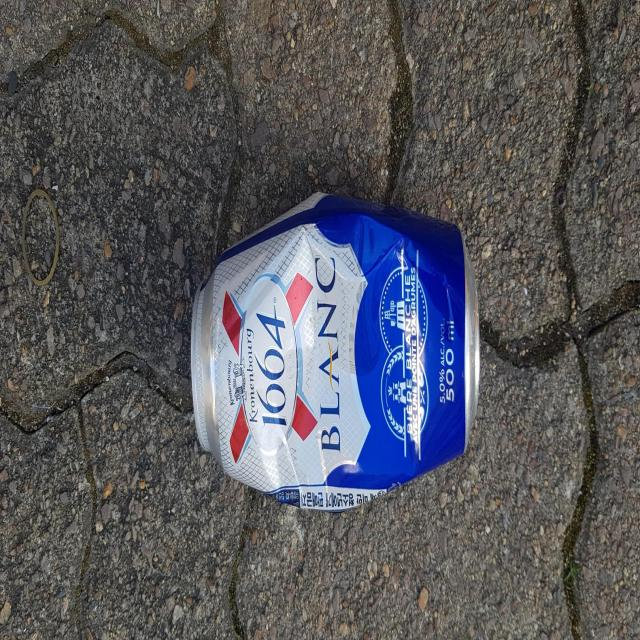can: (191, 193, 480, 511)
